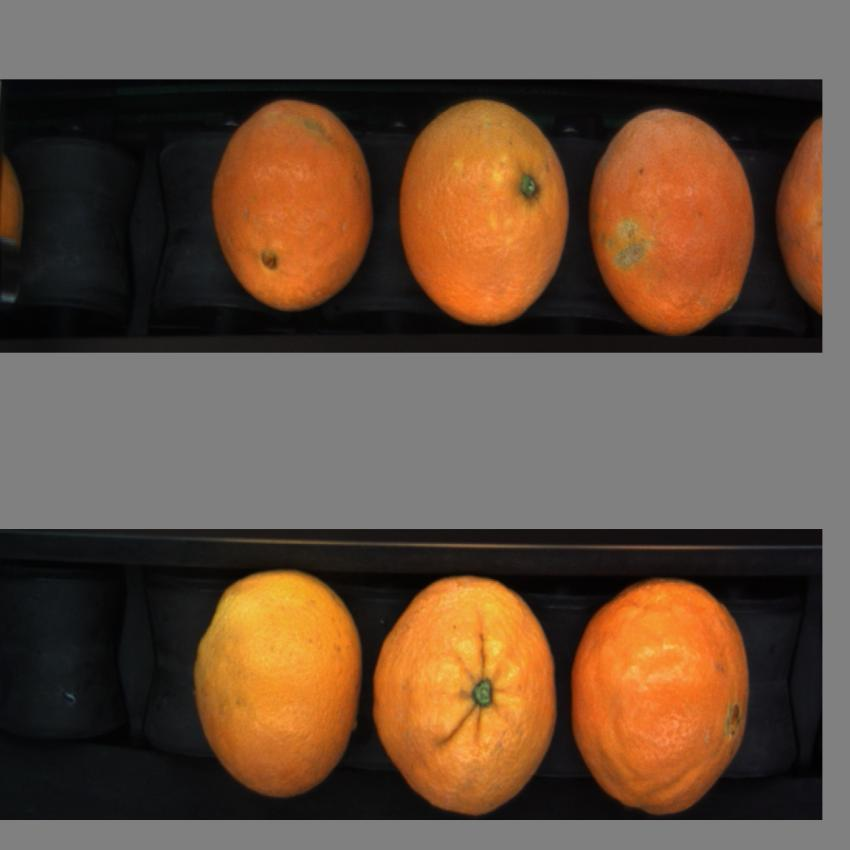Buen estado: (373, 570, 557, 812), (570, 578, 760, 808), (206, 86, 374, 322), (193, 566, 362, 796), (398, 104, 575, 322), (774, 114, 822, 327)
Mal estado: (586, 105, 756, 325)
